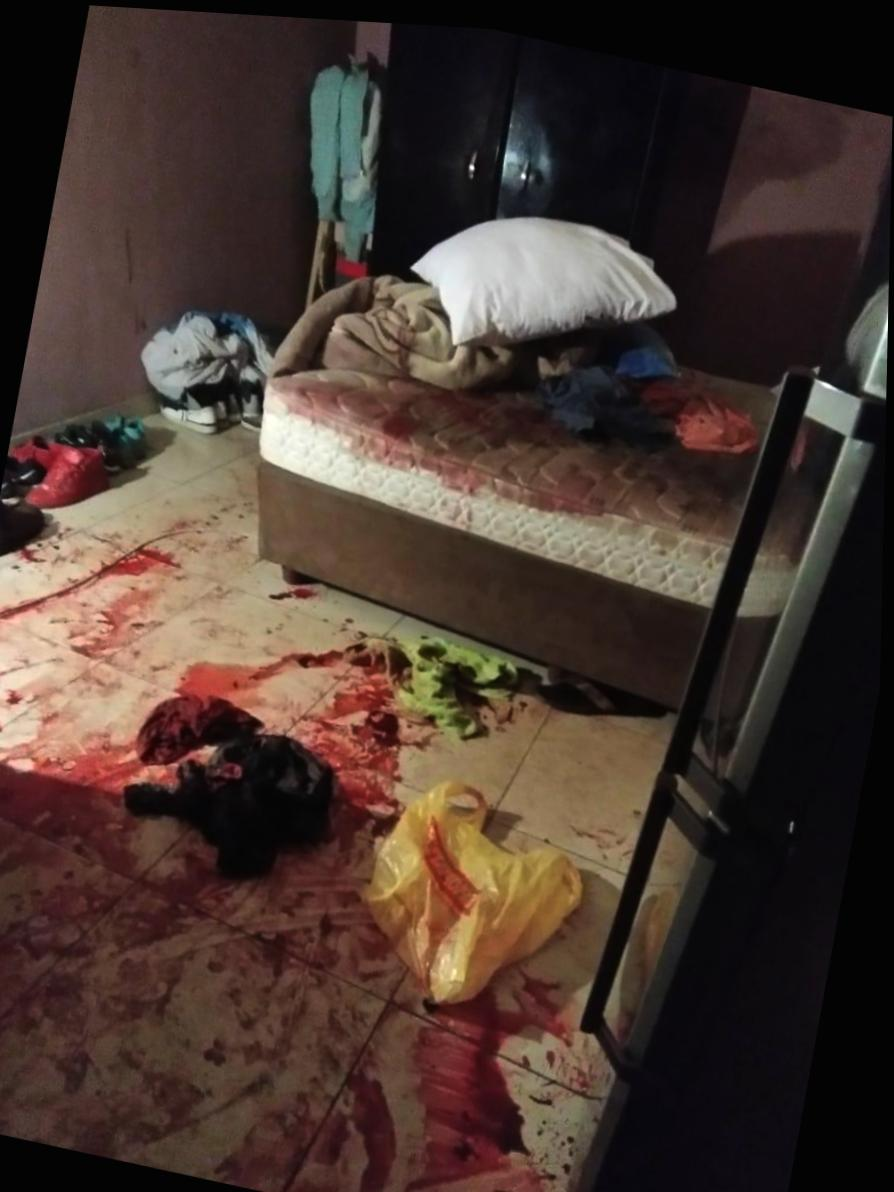Fire: (0, 426, 624, 1192), (270, 347, 747, 530)
